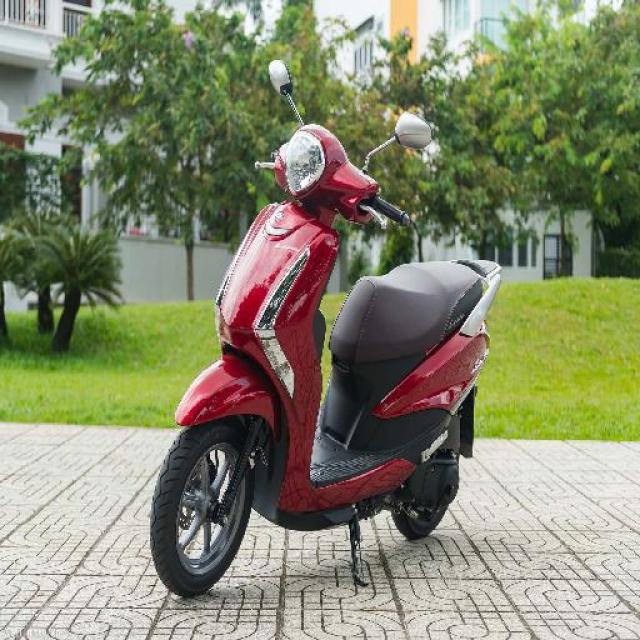All: (146, 57, 507, 602)
Head: (248, 120, 414, 238)
Tail: (441, 245, 504, 321)
